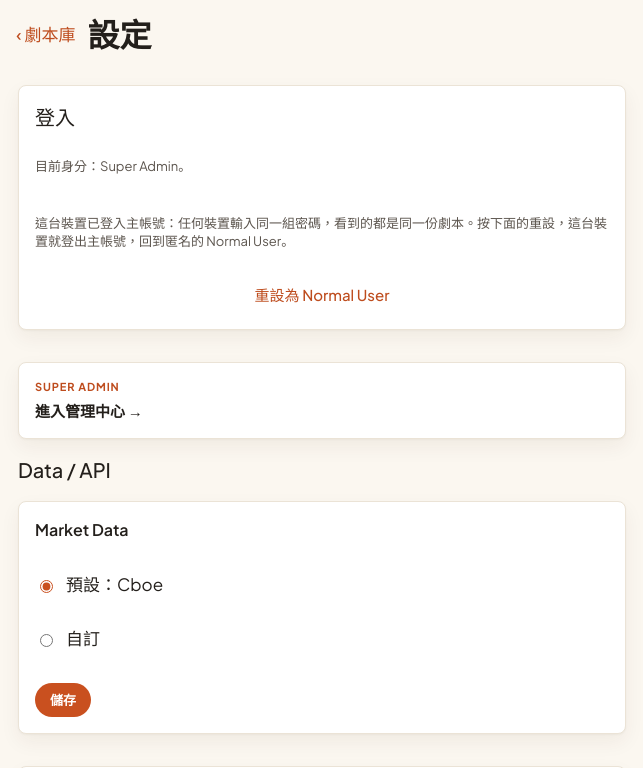
兩列與預設值 › 選了自訂才展開 Provider 與 Token 欄位
Expected: the element "Market Data" is shown, [18, 501, 626, 734]
Expected: the text "目前身分：Super Admin。" is shown, [35, 158, 191, 174]
Click the radio button labelled "自訂" at (46, 640), box [40, 634, 53, 647]
(page scrolled)
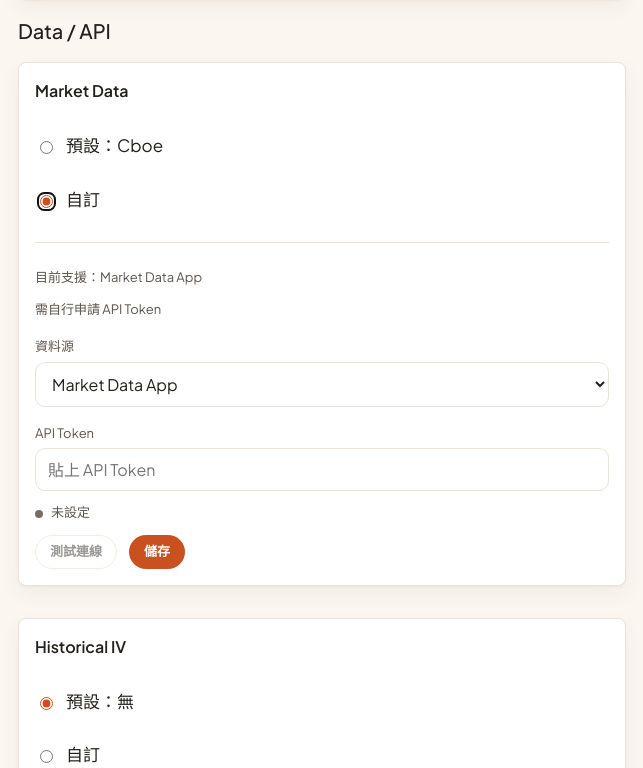
Expected: the password field labelled "API Token" is shown, [35, 448, 609, 491]
Expected: the dropdown labelled "資料源" is shown, [35, 362, 609, 406]
